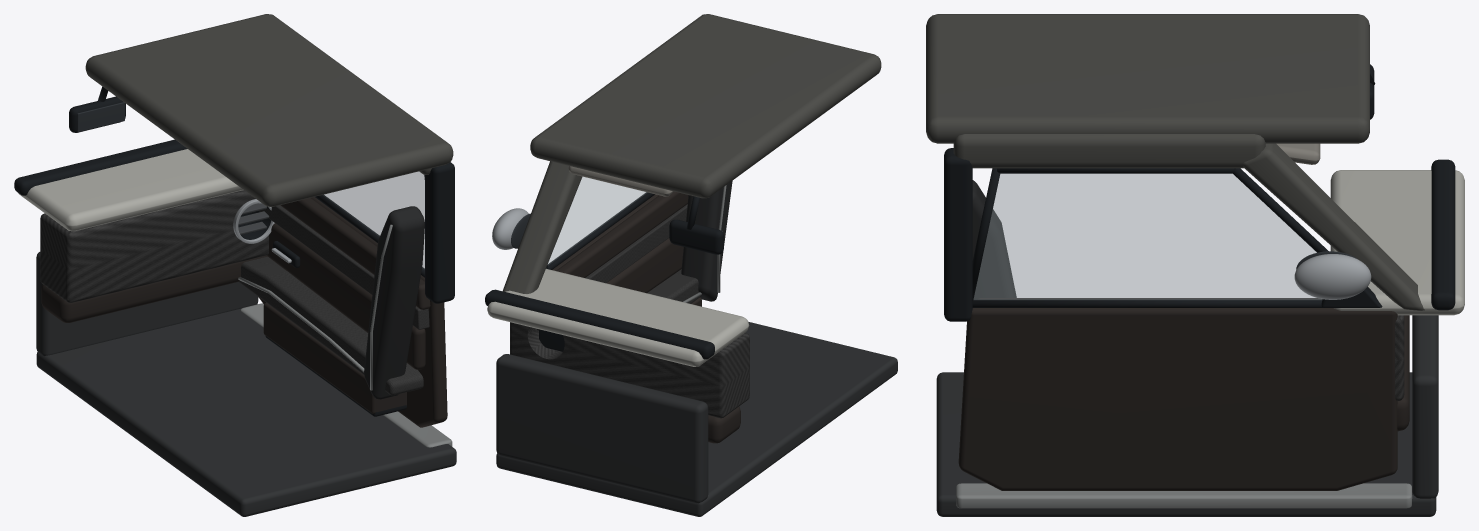
Rendered from car_passenger_cabin.glb.
3 views of the same model, side by side, from view 1: azimuth 30°, elevation 25°; view 2: azimuth 150°, elevation 25°; view 3: azimuth 270°, elevation 25° (orthographic). The views are drawn at different scales.
Visible parts, largest first — view 1: B01_inferred_floor_boundary, A03_partial_headliner, D02_dashboard_end_fascia, D01_dashboard_top, S01_visible_seat_outer_bolster, B03_front_footwell_back, P05_armrest_woven, P04_padded_mid_panel, D07_lower_dash_local, A04_partial_rear_window_return, P10_pocket_outer_wall, P01_door_carrier (+10 smaller); view 2: A03_partial_headliner, B03_front_footwell_back, B01_inferred_floor_boundary, D01_dashboard_top, D02_dashboard_end_fascia, A01_fixed_A_pillar, P12_side_window_glass, P02_upper_belt, A07_windshield_lower_return, S01_visible_seat_outer_bolster, P04_padded_mid_panel, P03_woven_upper_insert (+6 smaller); view 3: P01_door_carrier, A03_partial_headliner, P12_side_window_glass, D01_dashboard_top, A02_side_roof_rail, B01_inferred_floor_boundary, B02_sill_fixed, A01_fixed_A_pillar, B03_front_footwell_back, A04_partial_rear_window_return, A07_windshield_lower_return, P13_window_frame_4 (+10 smaller).
Boxes of the visible parts, x1,y1,x2,y2 form: B01_inferred_floor_boundary: (36, 308, 456, 516); A03_partial_headliner: (85, 14, 453, 206); D02_dashboard_end_fascia: (40, 190, 268, 302); D01_dashboard_top: (18, 149, 243, 231); S01_visible_seat_outer_bolster: (364, 206, 424, 399); B03_front_footwell_back: (36, 252, 258, 356); P05_armrest_woven: (239, 256, 423, 395); P04_padded_mid_panel: (266, 223, 425, 369); D07_lower_dash_local: (41, 255, 267, 322); A04_partial_rear_window_return: (425, 162, 454, 303); P10_pocket_outer_wall: (263, 302, 376, 413); P01_door_carrier: (258, 197, 447, 427); A03_partial_headliner: (530, 14, 881, 198); B03_front_footwell_back: (496, 354, 708, 503); B01_inferred_floor_boundary: (496, 322, 897, 516); D01_dashboard_top: (487, 268, 749, 366); D02_dashboard_end_fascia: (510, 322, 749, 418); A01_fixed_A_pillar: (503, 161, 582, 293); P12_side_window_glass: (548, 177, 646, 264); P02_upper_belt: (556, 191, 688, 277); A07_windshield_lower_return: (485, 289, 714, 359); S01_visible_seat_outer_bolster: (681, 181, 732, 301); P04_padded_mid_panel: (606, 238, 683, 293); P03_woven_upper_insert: (537, 204, 687, 330); P01_door_carrier: (958, 308, 1397, 490); A03_partial_headliner: (926, 14, 1369, 143); P12_side_window_glass: (973, 174, 1322, 299); D01_dashboard_top: (1330, 170, 1464, 315); A02_side_roof_rail: (953, 134, 1265, 168); B01_inferred_floor_boundary: (936, 372, 1436, 516); B02_sill_fixed: (956, 483, 1412, 508); A01_fixed_A_pillar: (1242, 143, 1424, 310); B03_front_footwell_back: (1412, 315, 1438, 498); A04_partial_rear_window_return: (944, 148, 972, 321); A07_windshield_lower_return: (1431, 159, 1455, 310); P13_window_frame_4: (972, 299, 1322, 307).
Size of the model in its own units: 1.55 by 1.81 by 2.25.
13 materials, 1 textured.
